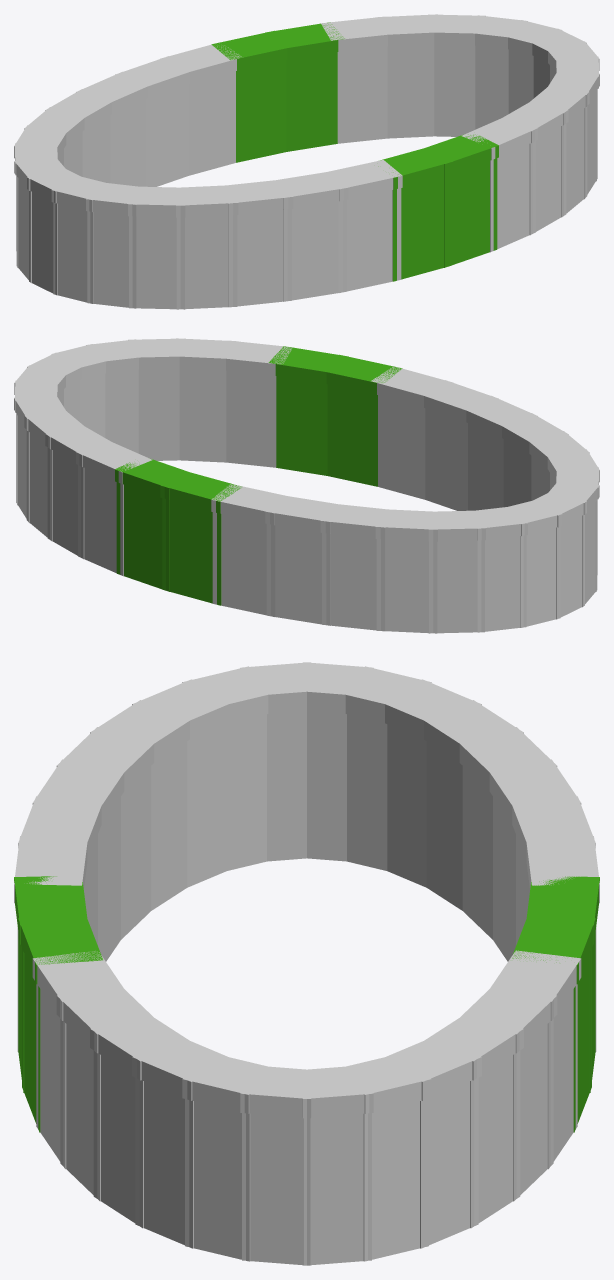
Rendered from CMU3DRMCMedEMTArmbandInsigniaExtraCloud.glb.
3 views of the same model, one above another, from view 1: azimuth 30°, elevation 25°; view 2: azimuth 150°, elevation 25°; view 3: azimuth 270°, elevation 25° (orthographic). The views are drawn at different scales.
Visible parts, largest first — view 1: Connected cloth loop segment 22, Connected cloth loop segment 21, Connected cloth loop segment 23, Connected cloth loop segment 20, Connected cloth loop segment 6, Connected cloth loop segment 24, Connected cloth loop segment 5, Connected cloth loop segment 7, Connected cloth loop segment 19, Connected cloth loop segment 4, Connected cloth loop segment 8, Connected cloth loop segment 25 (+48 smaller); view 2: Connected cloth loop segment 9, Connected cloth loop segment 10, Connected cloth loop segment 8, Connected cloth loop segment 11, Connected cloth loop segment 25, Connected cloth loop segment 7, Connected cloth loop segment 26, Connected cloth loop segment 24, Connected cloth loop segment 12, Connected cloth loop segment 27, Connected cloth loop segment 23, Connected cloth loop segment 6 (+48 smaller); view 3: Connected cloth loop segment 0, Connected cloth loop segment 31, Connected cloth loop segment 1, Connected cloth loop segment 30, Connected cloth loop segment 2, Connected cloth loop segment 29, Connected cloth loop segment 3, Connected cloth loop segment 28, Connected cloth loop segment 14, Connected cloth loop segment 17, Connected cloth loop segment 15, Connected cloth loop segment 16 (+50 smaller).
Part boxes in pixels (x1,y1,x2,y2): Connected cloth loop segment 22: (283, 200, 347, 301); Connected cloth loop segment 21: (228, 209, 291, 307); Connected cloth loop segment 23: (338, 188, 401, 292); Connected cloth loop segment 20: (176, 215, 237, 309); Connected cloth loop segment 6: (286, 52, 337, 151); Connected cloth loop segment 24: (392, 174, 451, 281); Connected cloth loop segment 5: (337, 46, 387, 143); Connected cloth loop segment 7: (236, 60, 286, 162); Connected cloth loop segment 19: (129, 216, 184, 309); Connected cloth loop segment 4: (387, 44, 434, 138); Connected cloth loop segment 8: (188, 71, 235, 175); Connected cloth loop segment 25: (444, 158, 497, 267); Connected cloth loop segment 9: (266, 524, 330, 625); Connected cloth loop segment 10: (322, 533, 385, 631); Connected cloth loop segment 8: (212, 512, 275, 616); Connected cloth loop segment 11: (376, 539, 437, 633); Connected cloth loop segment 25: (276, 376, 327, 475); Connected cloth loop segment 7: (162, 498, 221, 605); Connected cloth loop segment 26: (226, 370, 276, 467); Connected cloth loop segment 24: (327, 384, 377, 486); Connected cloth loop segment 12: (429, 540, 484, 633); Connected cloth loop segment 27: (179, 368, 226, 462); Connected cloth loop segment 23: (378, 395, 425, 499); Connected cloth loop segment 6: (116, 482, 169, 591); Connected cloth loop segment 0: (303, 1113, 371, 1265); Connected cloth loop segment 31: (242, 1113, 310, 1265); Connected cloth loop segment 1: (363, 1099, 428, 1261); Connected cloth loop segment 30: (185, 1099, 250, 1261); Connected cloth loop segment 2: (420, 1077, 478, 1248); Connected cloth loop segment 29: (135, 1077, 193, 1248); Connected cloth loop segment 3: (470, 1050, 520, 1228); Connected cloth loop segment 28: (93, 1050, 143, 1228); Connected cloth loop segment 14: (347, 714, 387, 870); Connected cloth loop segment 17: (226, 714, 266, 870); Connected cloth loop segment 15: (307, 711, 346, 861); Connected cloth loop segment 16: (267, 711, 306, 861).
Size of the model in its own units: 0.4401 by 0.079 by 0.2494.
